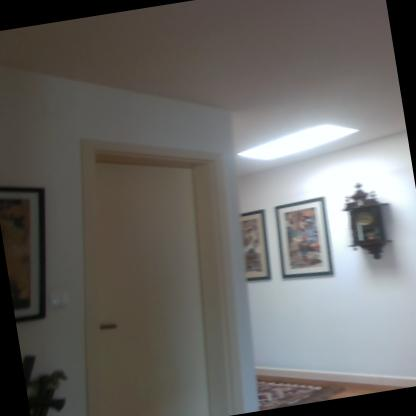closed: (60, 124, 264, 415)
